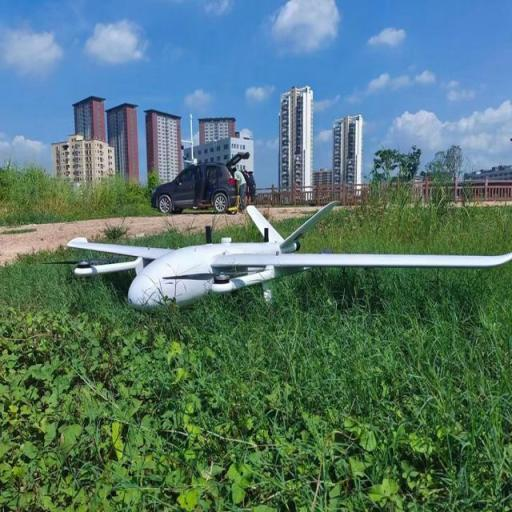uav: (54, 198, 512, 330)
